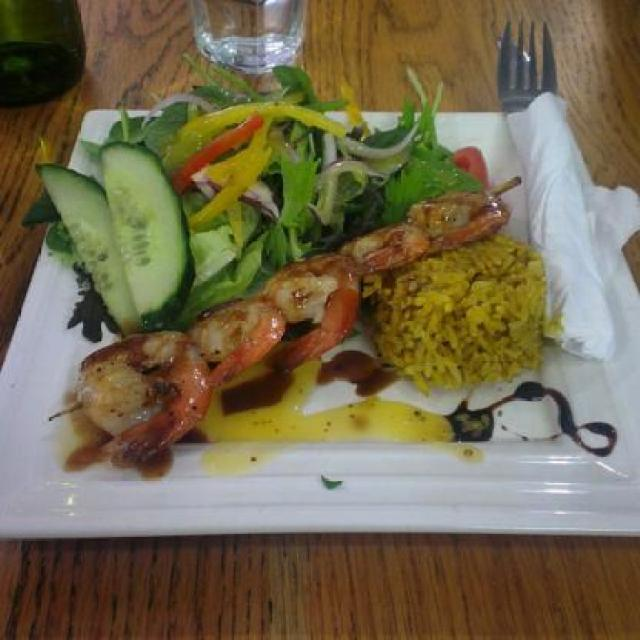Cucumber: (38, 166, 144, 331)
